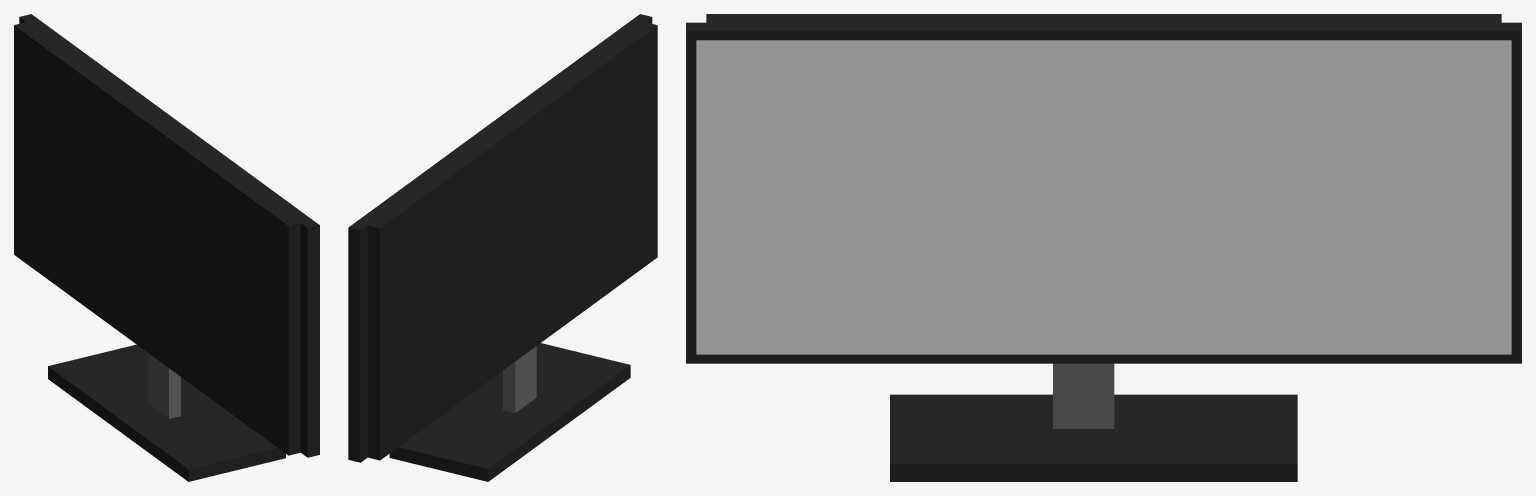
File: Computer_Monitor.obj
3 views of the same model, side by side, from view 1: azimuth 30°, elevation 25°; view 2: azimuth 150°, elevation 25°; view 3: azimuth 270°, elevation 25° (orthographic). The views are drawn at different scales.
Bounding box in the file's own units: 1.6 × 4.6 × 8.2.
1 material, 1 textured.
